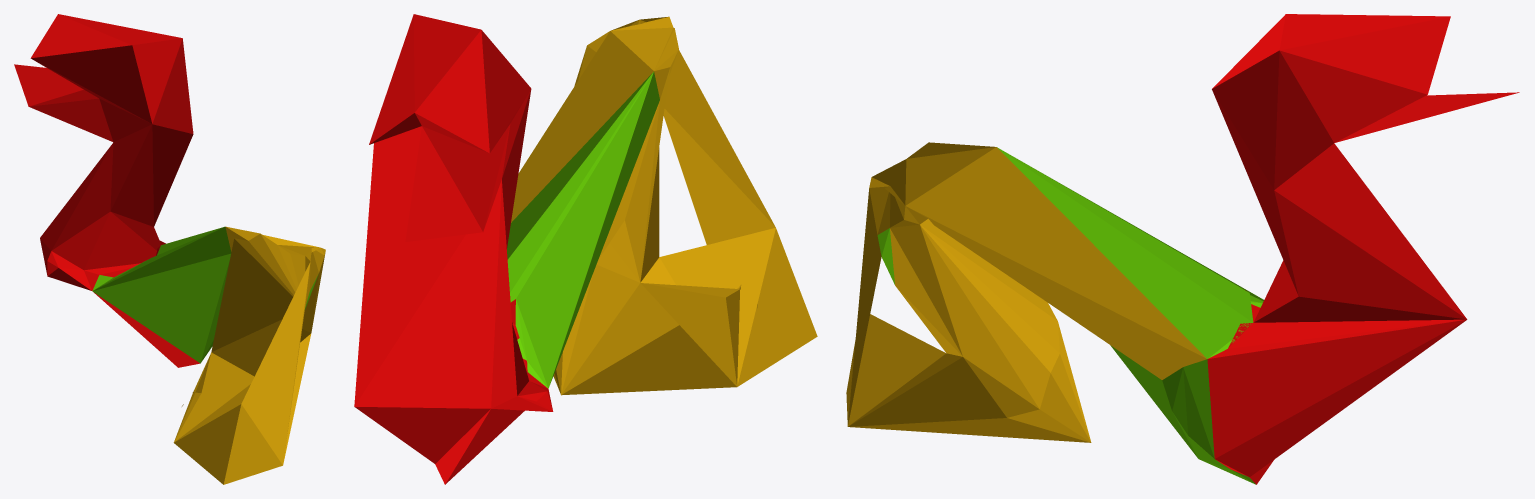
File: Dragon_8K_L6.fbx
3 views of the same model, side by side, from view 1: azimuth 30°, elevation 25°; view 2: azimuth 150°, elevation 25°; view 3: azimuth 270°, elevation 25° (orthographic). The views are drawn at different scales.
Bounding box in the file's own units: 0.2686 × 0.6162 × 0.8419.
